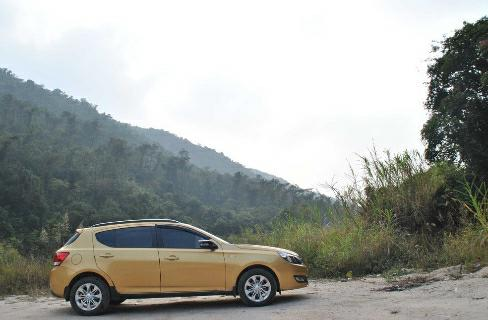宝骏-610: (35, 209, 316, 320)
